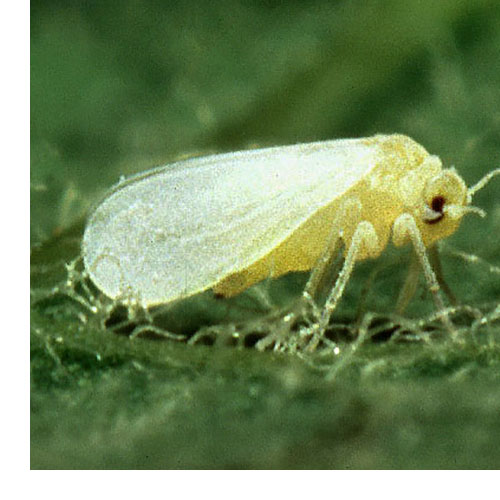Tobacco Whitefly: (51, 138, 461, 344)
